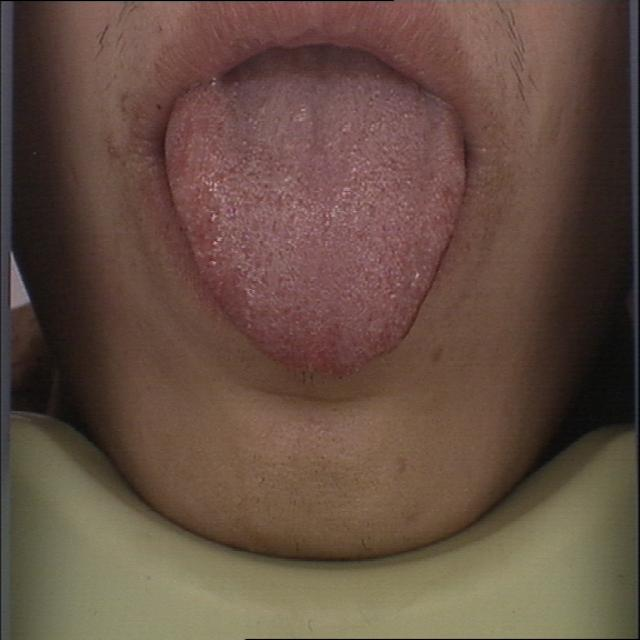tongue: (160, 54, 471, 383)
